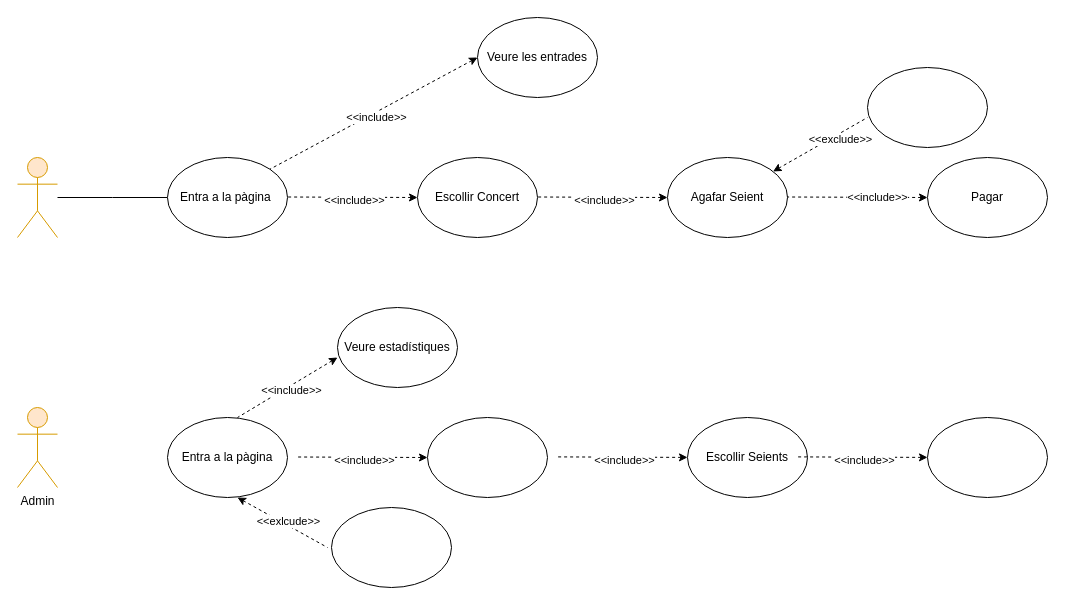
The diagram is 1065 pixels wide and 605 high, and some of its shapes have lost their labels. Here are the shapes that lost their labels. From the top down, the box of each, then its label:
(866, 66, 988, 148): Fer Petició d'assistència
(16, 156, 58, 238): Usuari
(426, 416, 548, 498): Crear Concert
(926, 416, 1048, 498): Confirmar creació
(330, 506, 452, 588): Respondre petició d'assistencia
